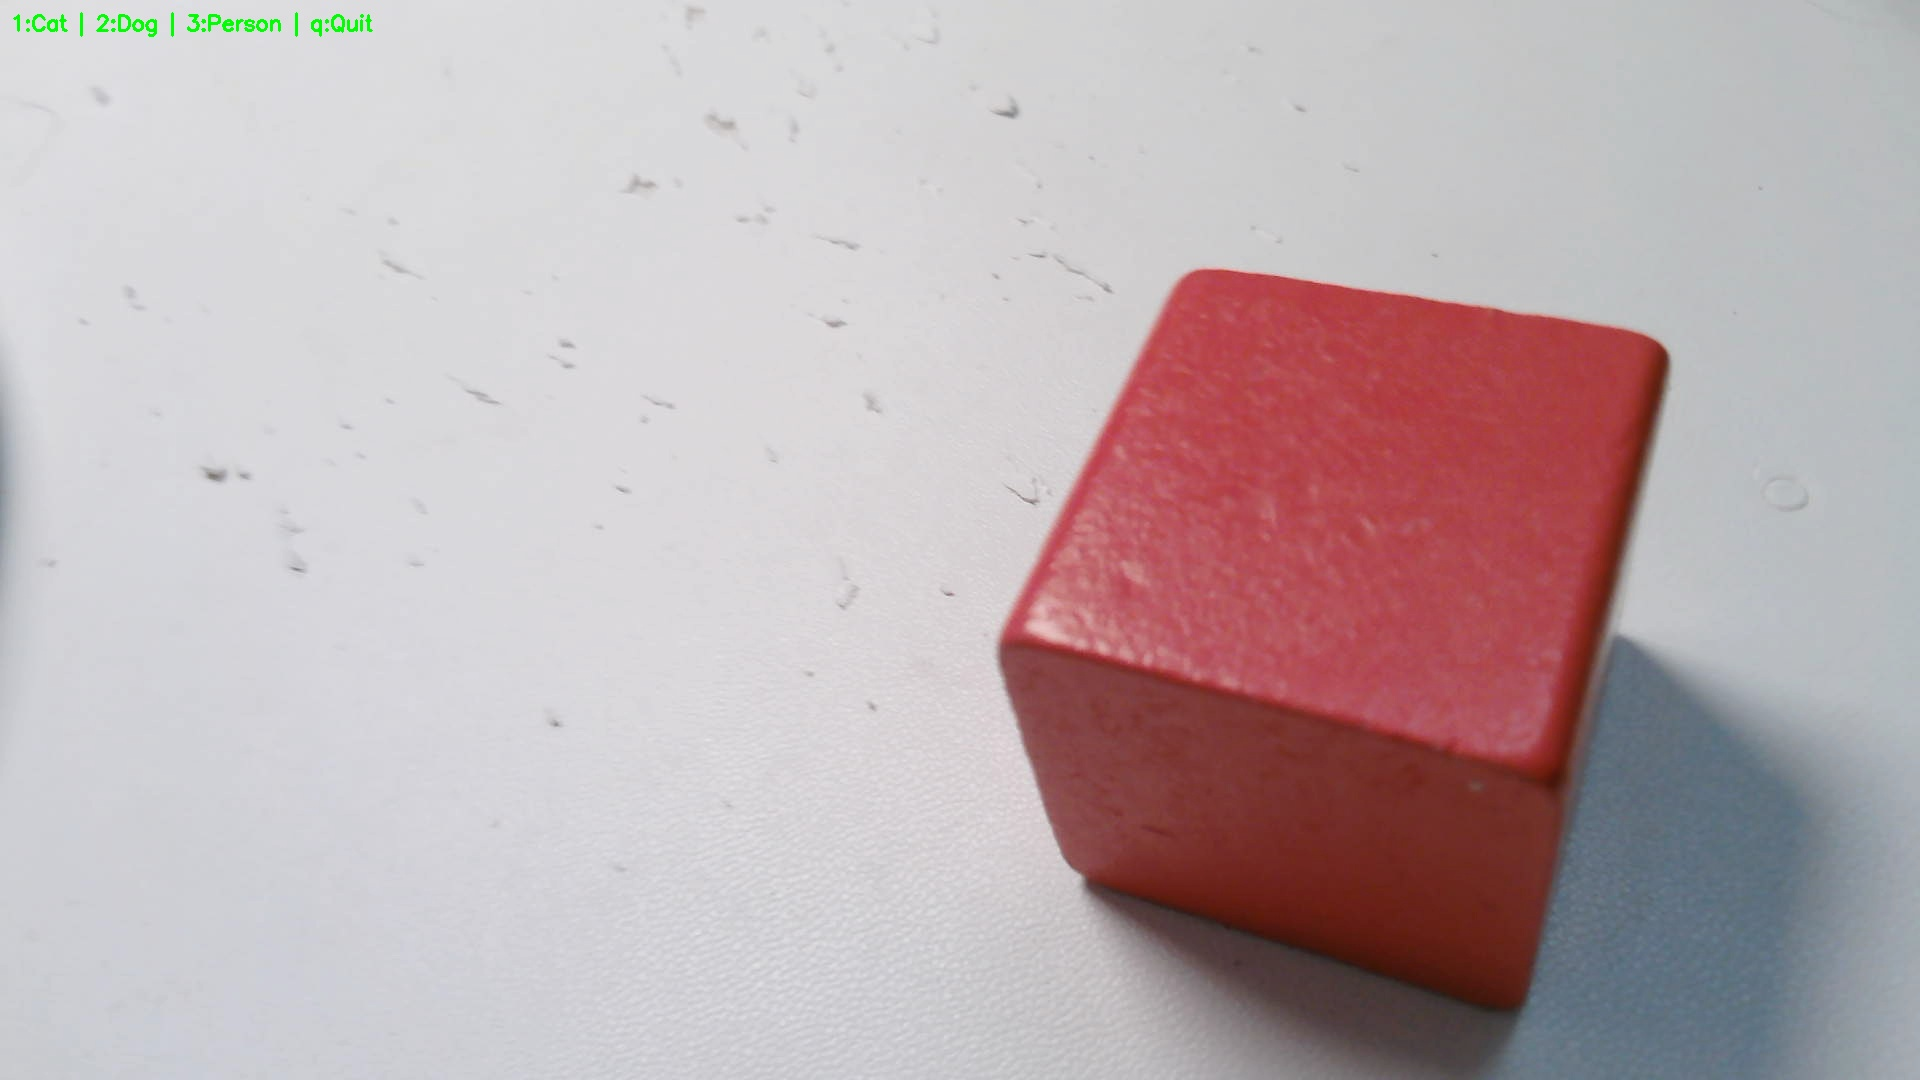red: (1000, 268, 1663, 1013)
